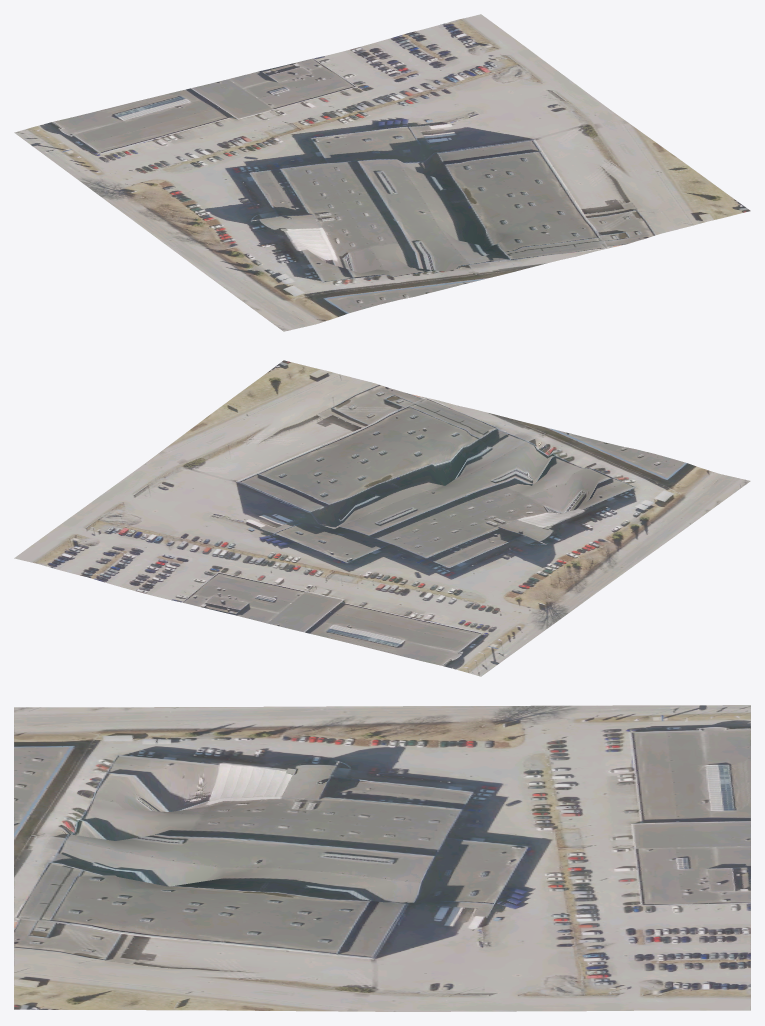
The model's file is CM_Terrain_24487387_6818975.fbx.
3 renders of one model, top to bottom at view 1: azimuth 30°, elevation 25°; view 2: azimuth 150°, elevation 25°; view 3: azimuth 270°, elevation 25°, orthographic. The views are drawn at different scales.
Parts seen in each view (by area): view 1: CM_Terrain_24487387_6818975_LOD0; view 2: CM_Terrain_24487387_6818975_LOD0; view 3: CM_Terrain_24487387_6818975_LOD0.
Part boxes in pixels (<box>): CM_Terrain_24487387_6818975_LOD0: <box>14,14,750,331</box>; CM_Terrain_24487387_6818975_LOD0: <box>14,360,750,676</box>; CM_Terrain_24487387_6818975_LOD0: <box>14,705,750,1011</box>.
Size of what is drawn, in the model's own units: 205 by 13.8 by 205.
